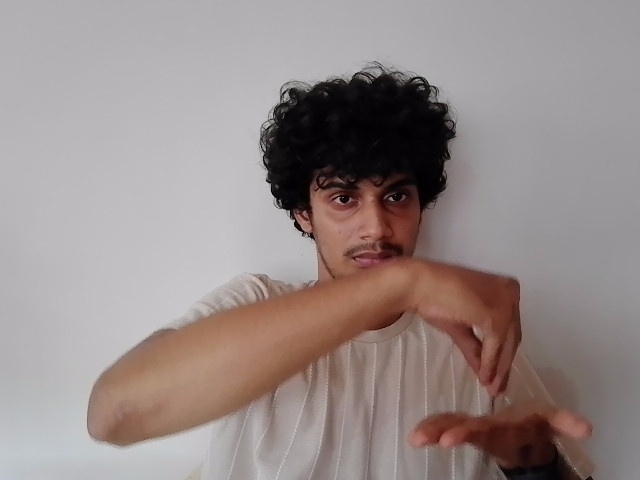learn: (391, 251, 600, 459)
